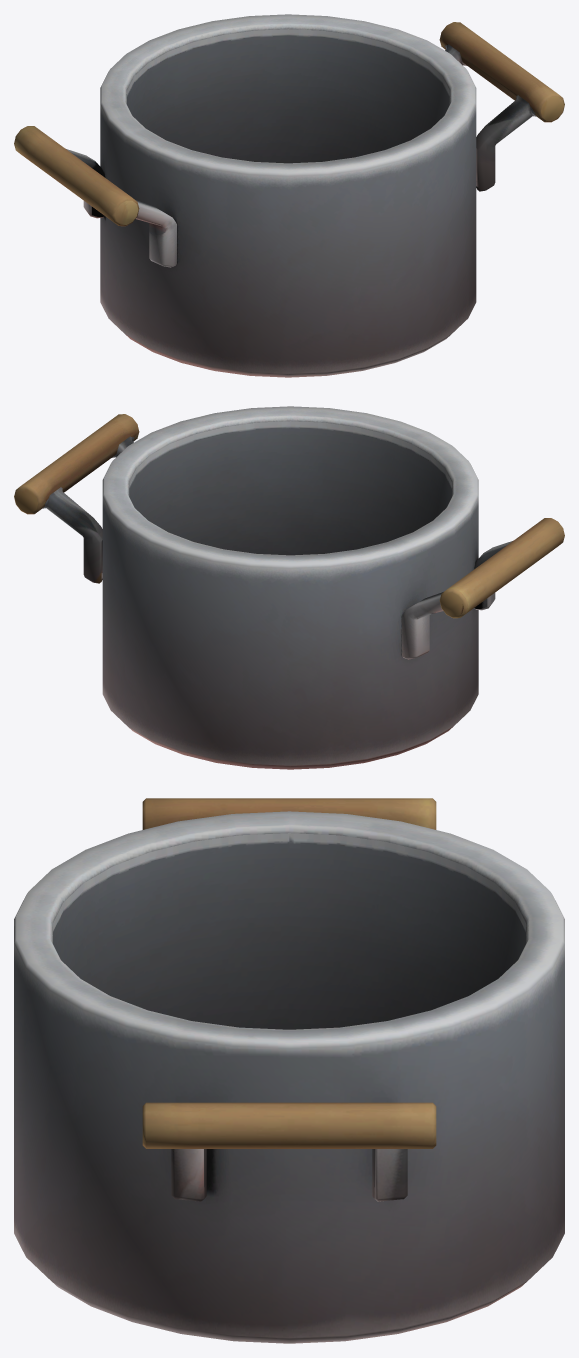
File: Pot.fbx
The picture shows the model from 3 angles, top to bottom: view 1: azimuth 30°, elevation 25°; view 2: azimuth 150°, elevation 25°; view 3: azimuth 270°, elevation 25°; orthographic projection. The views are drawn at different scales.
Parts seen in each view (by area): view 1: Pot.001; view 2: Pot.001; view 3: Pot.001.
Boxes of the visible parts, bbox=[...] form: Pot.001: bbox=[14, 14, 564, 377]; Pot.001: bbox=[14, 406, 564, 769]; Pot.001: bbox=[14, 798, 564, 1343].
Bounding box in the file's own units: 117 × 51.02 × 83.93.
